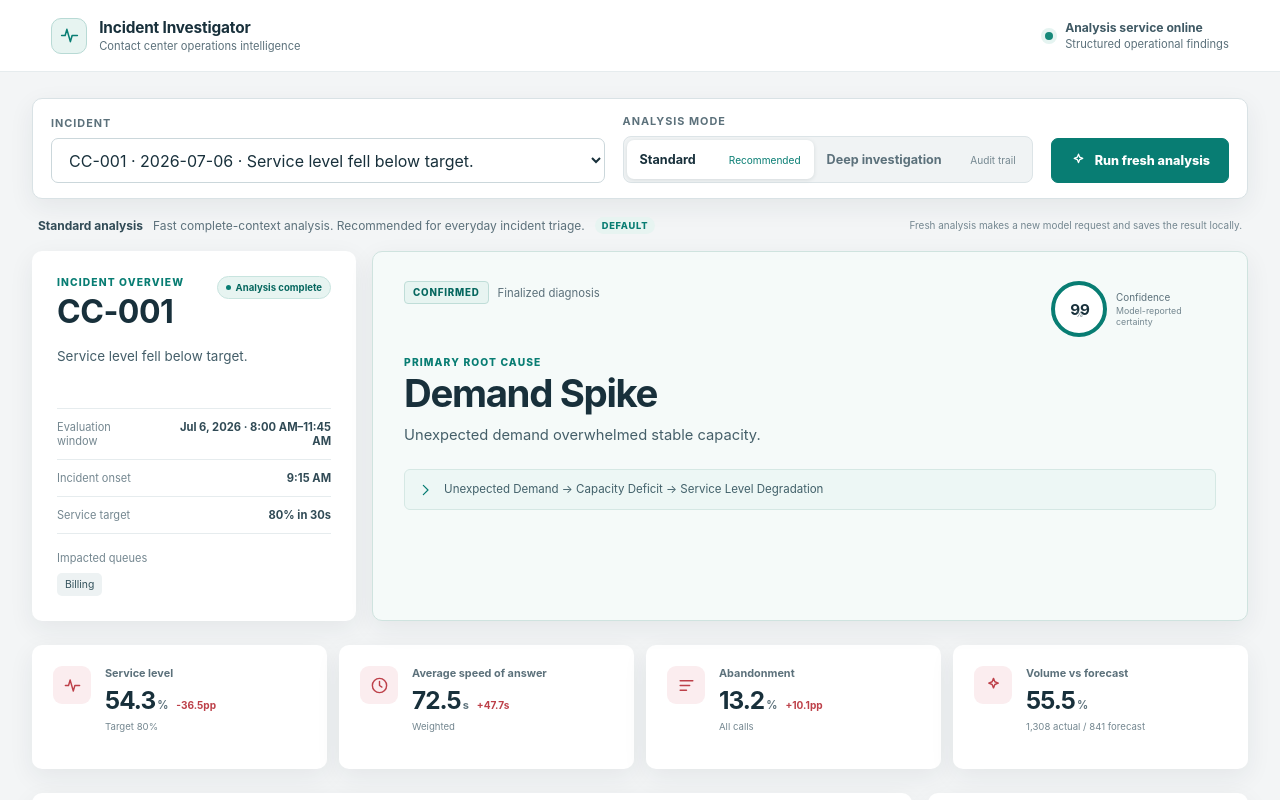
Scenario: switches to deep investigation without presenting it as an accuracy tier
Expected: the heading "Demand Spike" is shown, [404,370,657,416]
Click the button "Deep investigation Audit trail" at (921, 160), box [814,140,1029,179]
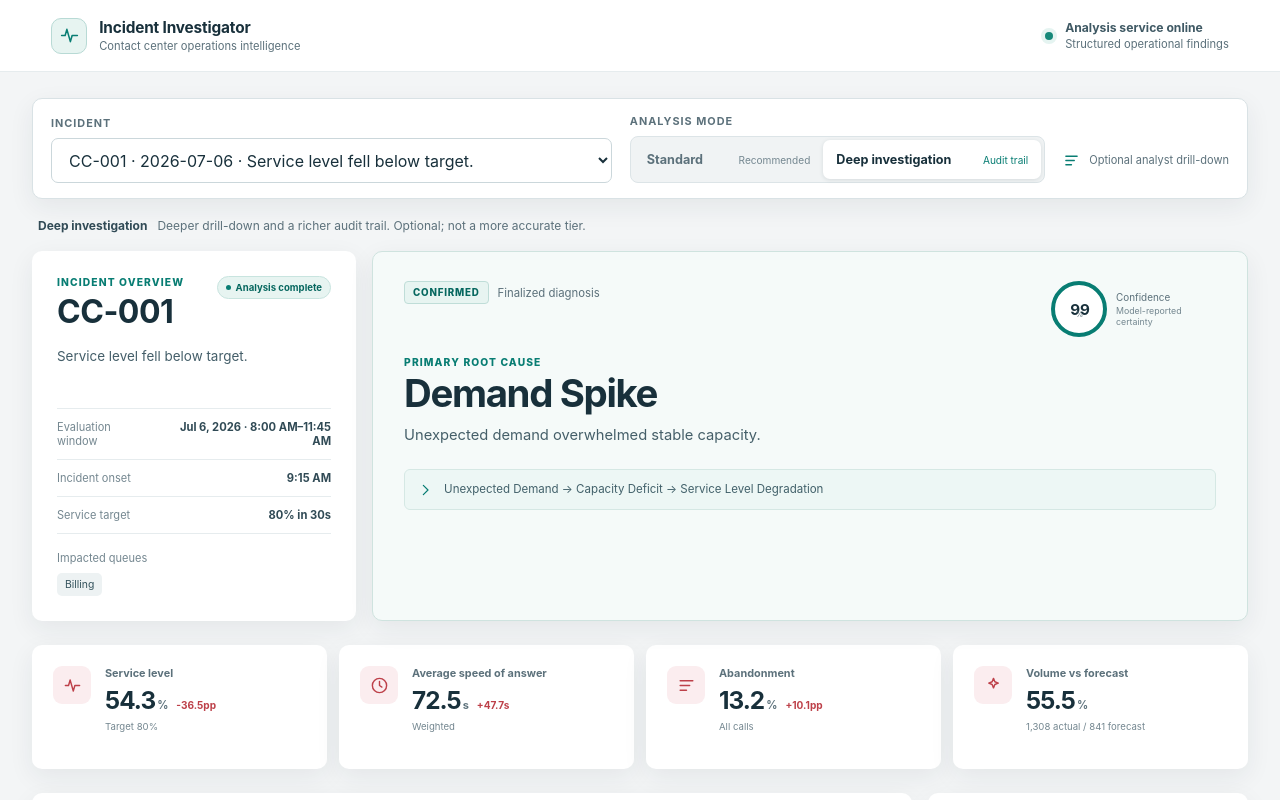
Expected: the text "not a more accurate tier" is shown, [157,218,586,232]
Expected: the button "Run fresh analysis" is gone
